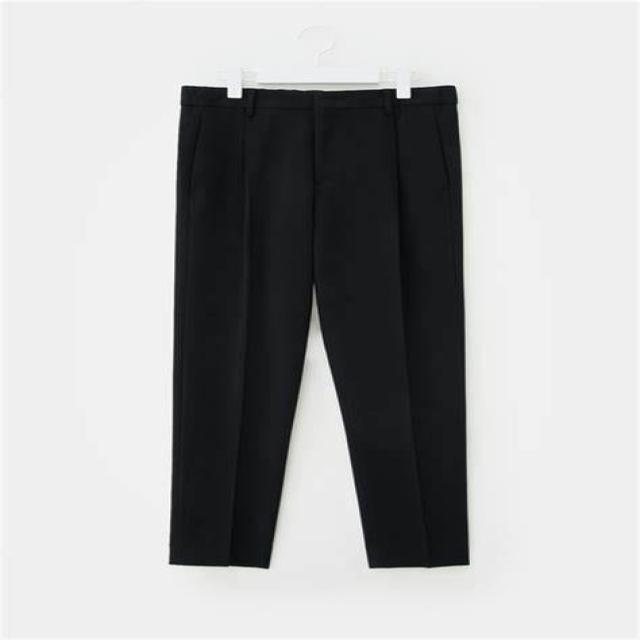long-pants: (162, 84, 473, 574)
